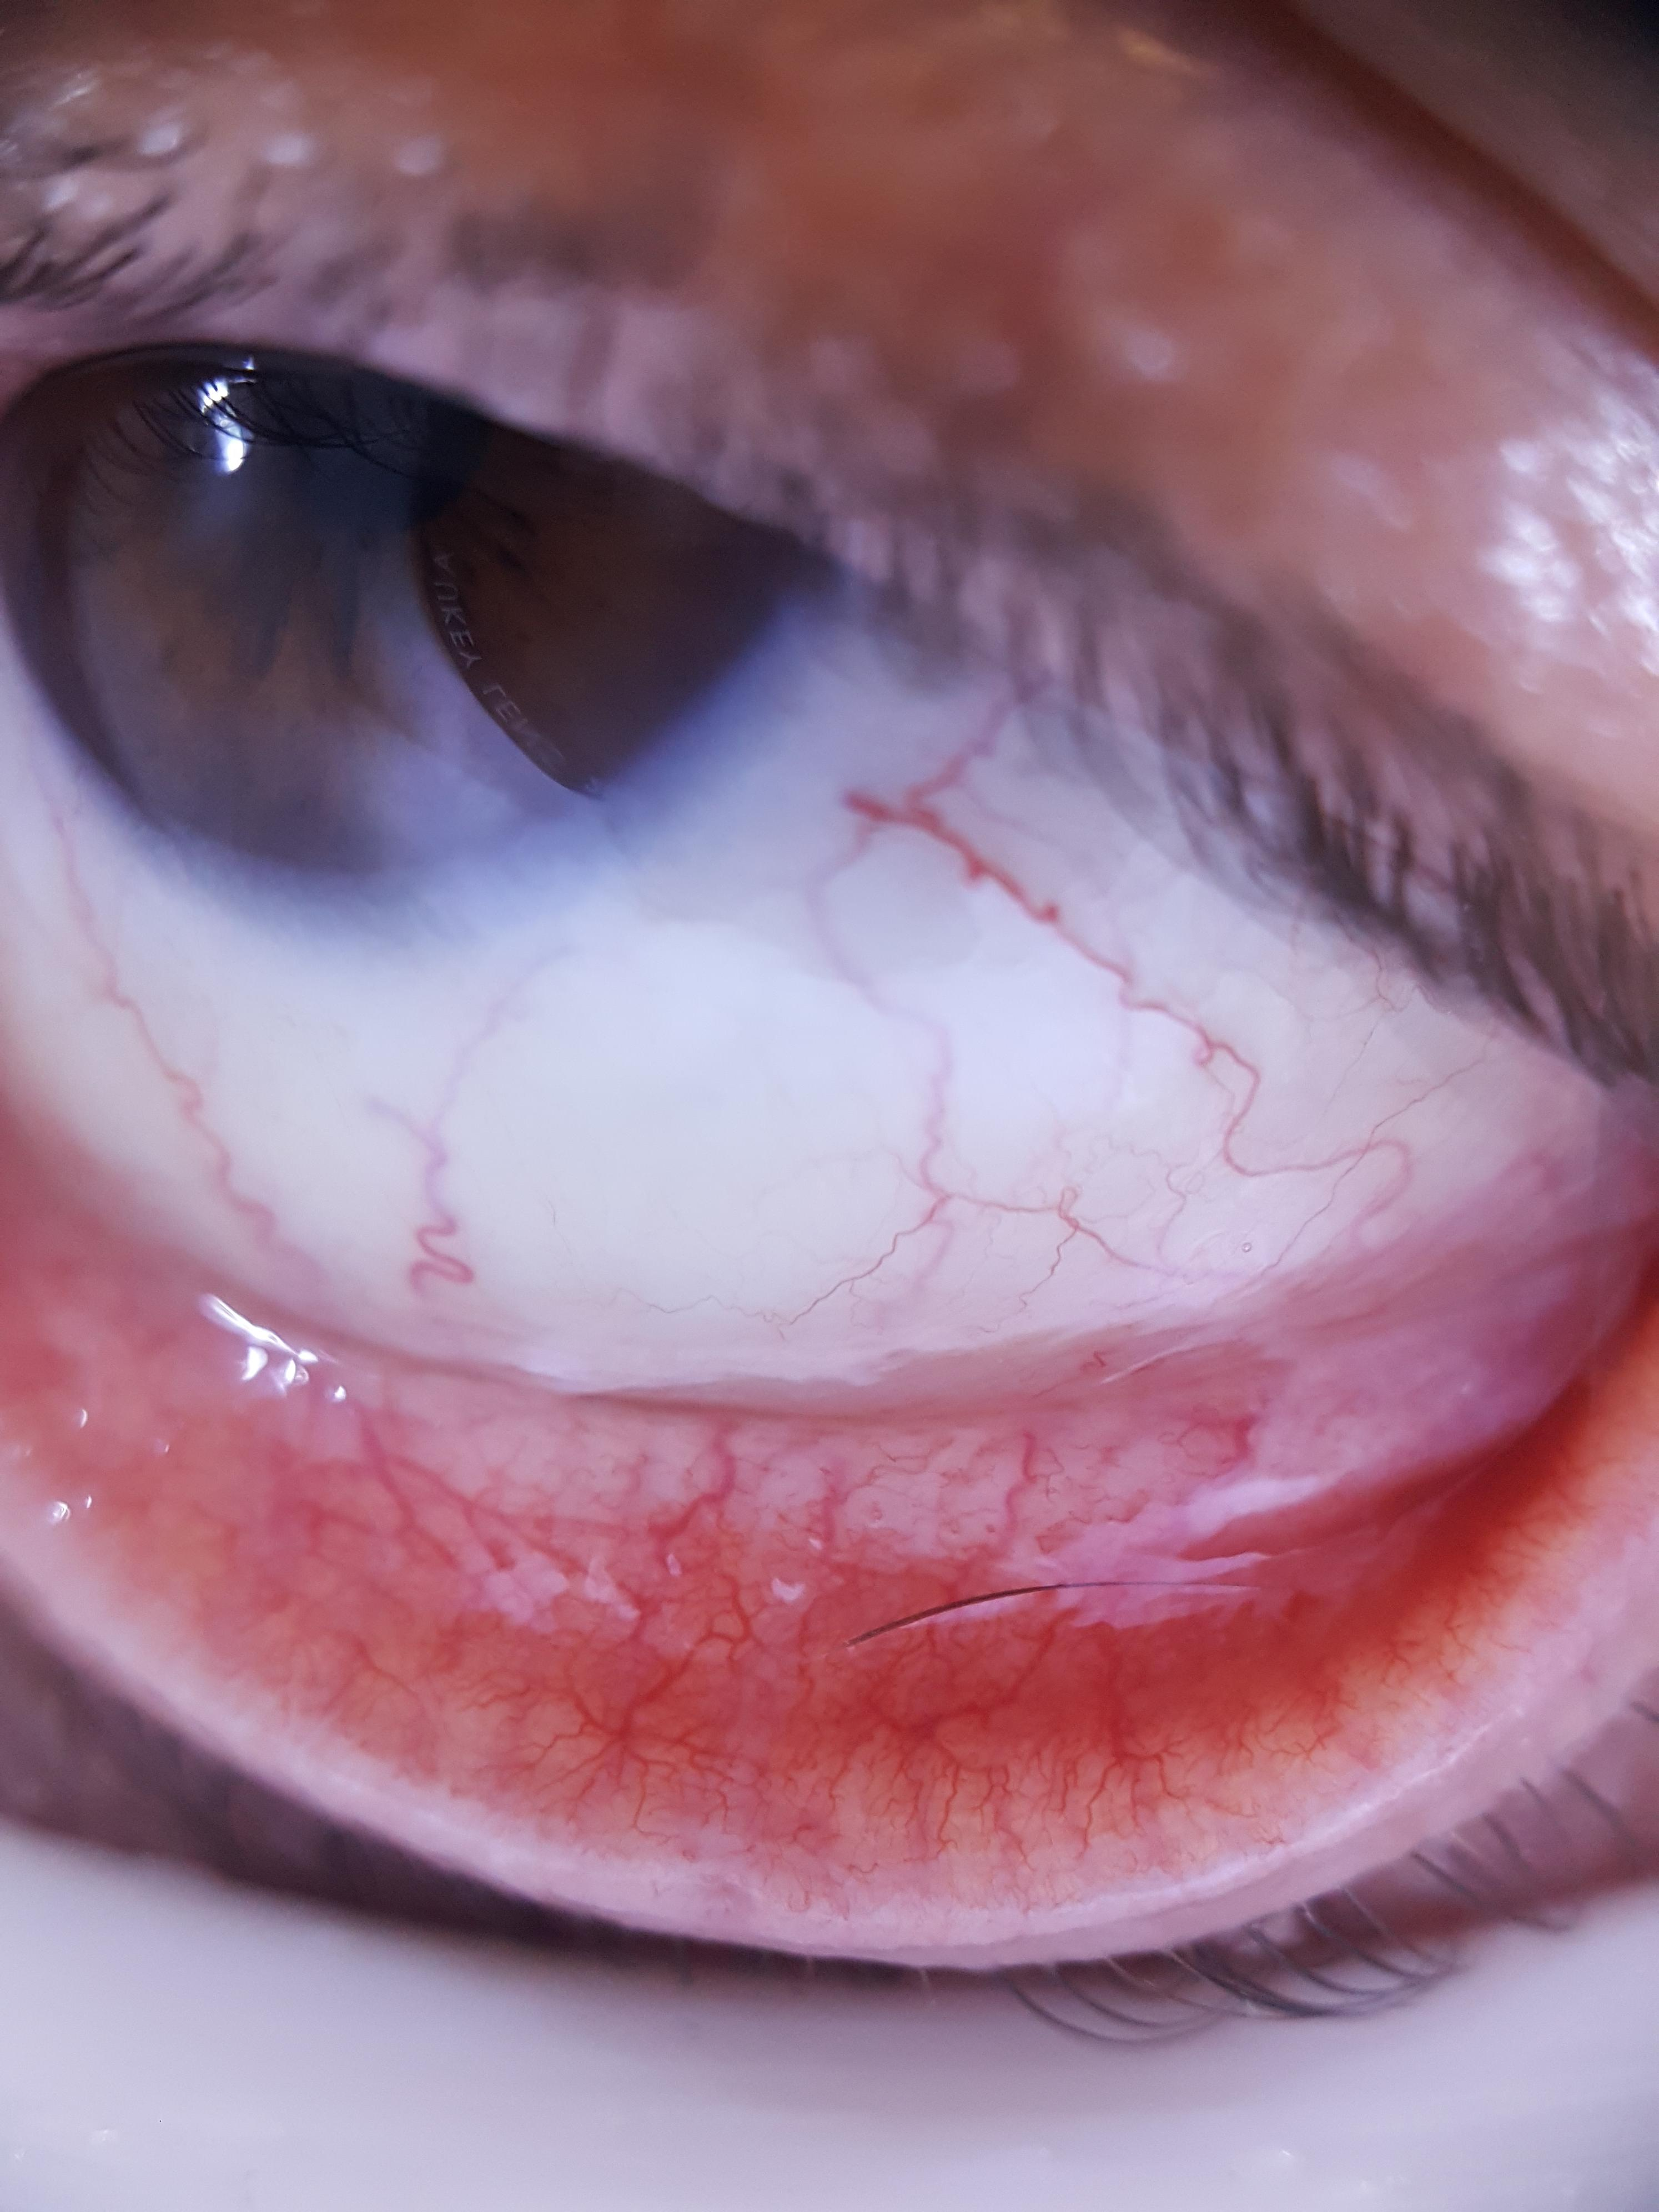forniceal: (0, 1141, 1659, 1583)
forniceal_palpebral: (0, 1116, 1659, 1865)
palpebral: (0, 1282, 1659, 1857)
